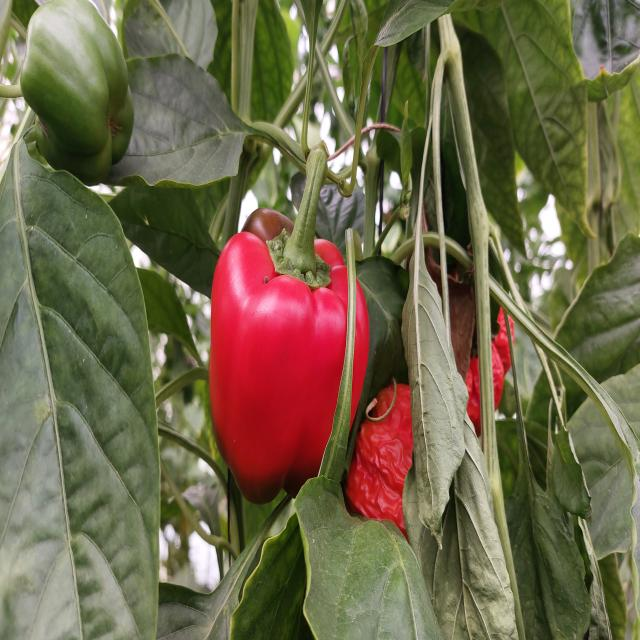Red-Ready-to-Harvest: (212, 182, 376, 501)
